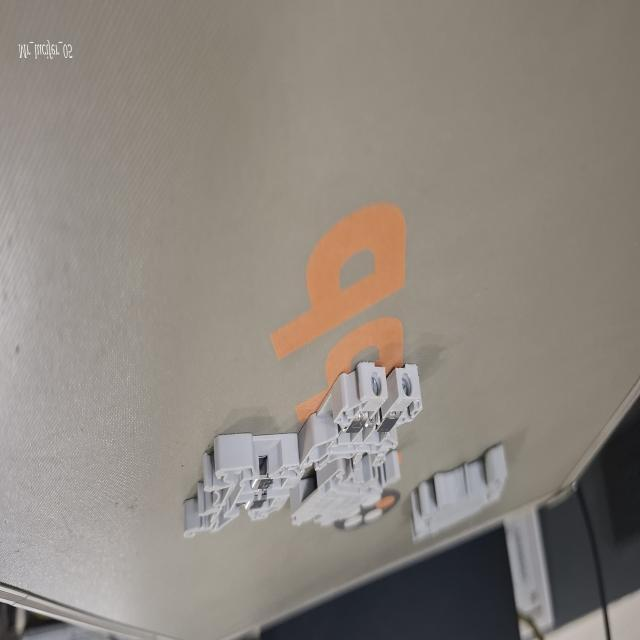Inverted: (285, 454, 403, 580)
Pass: (173, 424, 305, 564), (299, 348, 432, 481)
